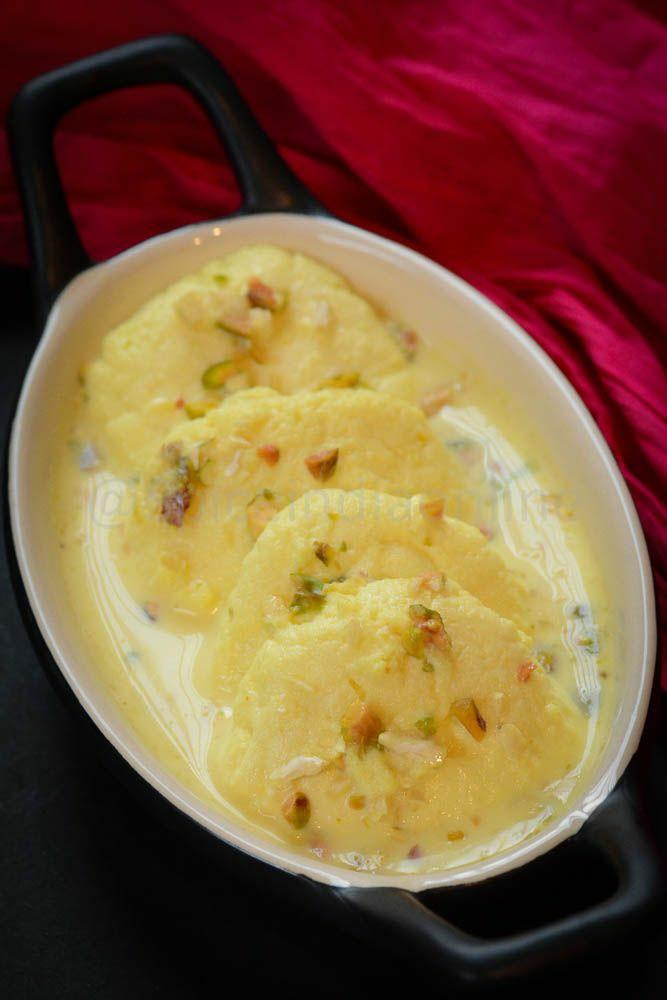RasMalai: (81, 250, 613, 870)
